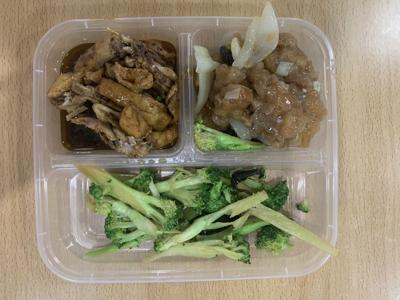gbr: (193, 27, 325, 152)
